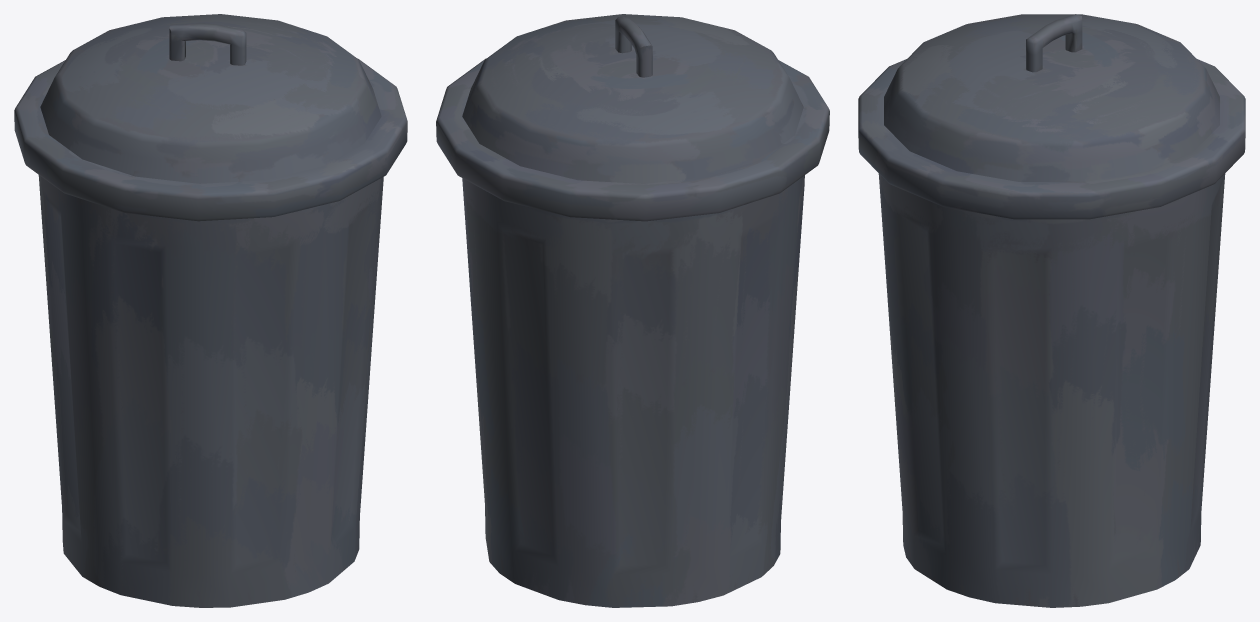
Rendered from Papelera.fbx.
3 views of the same model, side by side, from view 1: azimuth 30°, elevation 25°; view 2: azimuth 150°, elevation 25°; view 3: azimuth 270°, elevation 25° (orthographic).
Parts seen in each view (by area): view 1: Cube.037; view 2: Cube.037; view 3: Cube.037.
Boxes of the visible parts, x1,y1,x2,y2 form: Cube.037: [14, 14, 407, 607]; Cube.037: [436, 14, 829, 607]; Cube.037: [858, 14, 1245, 607].
Bounding box in the file's own units: 0.705 × 0.705 × 1.04.
